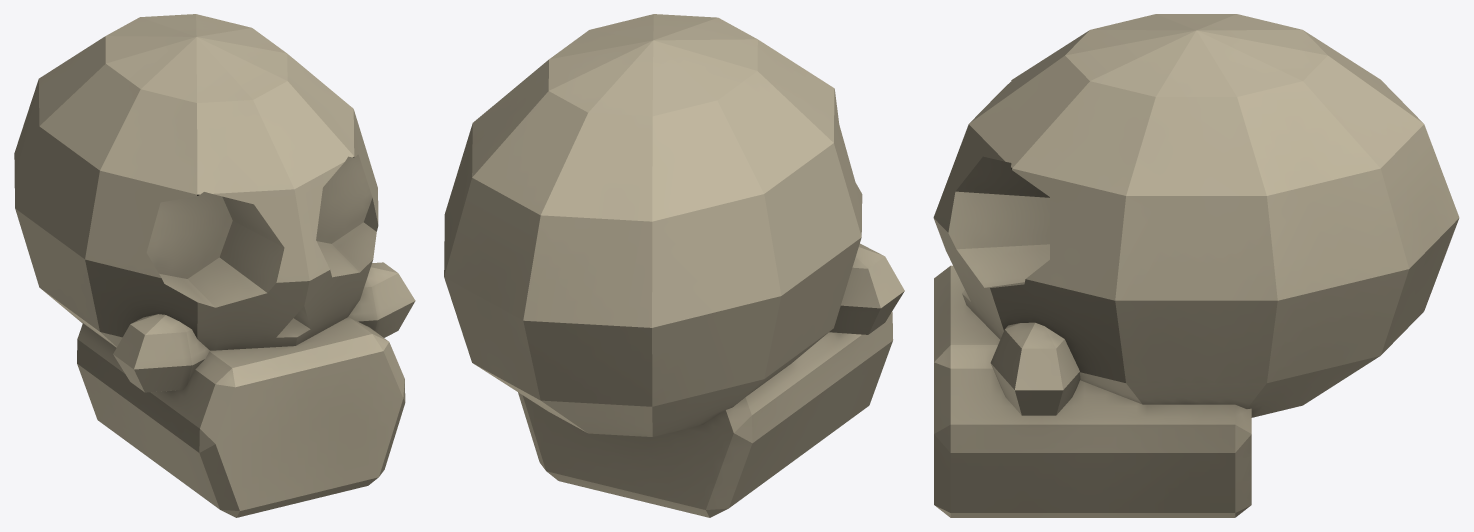
File: skull_01.glb
The picture shows the model from 3 angles, left to right: view 1: azimuth 30°, elevation 25°; view 2: azimuth 150°, elevation 25°; view 3: azimuth 270°, elevation 25°; orthographic projection. The views are drawn at different scales.
Visible parts, largest first — view 1: skull_01; view 2: skull_01; view 3: skull_01.
Part boxes in pixels (x1,y1,x2,y2): skull_01: (14, 14, 415, 517); skull_01: (444, 14, 904, 517); skull_01: (933, 14, 1459, 517).
Bounding box in the file's own units: 0.1423 × 0.1798 × 0.1904.
Materials: 1 (1 with a texture image).
